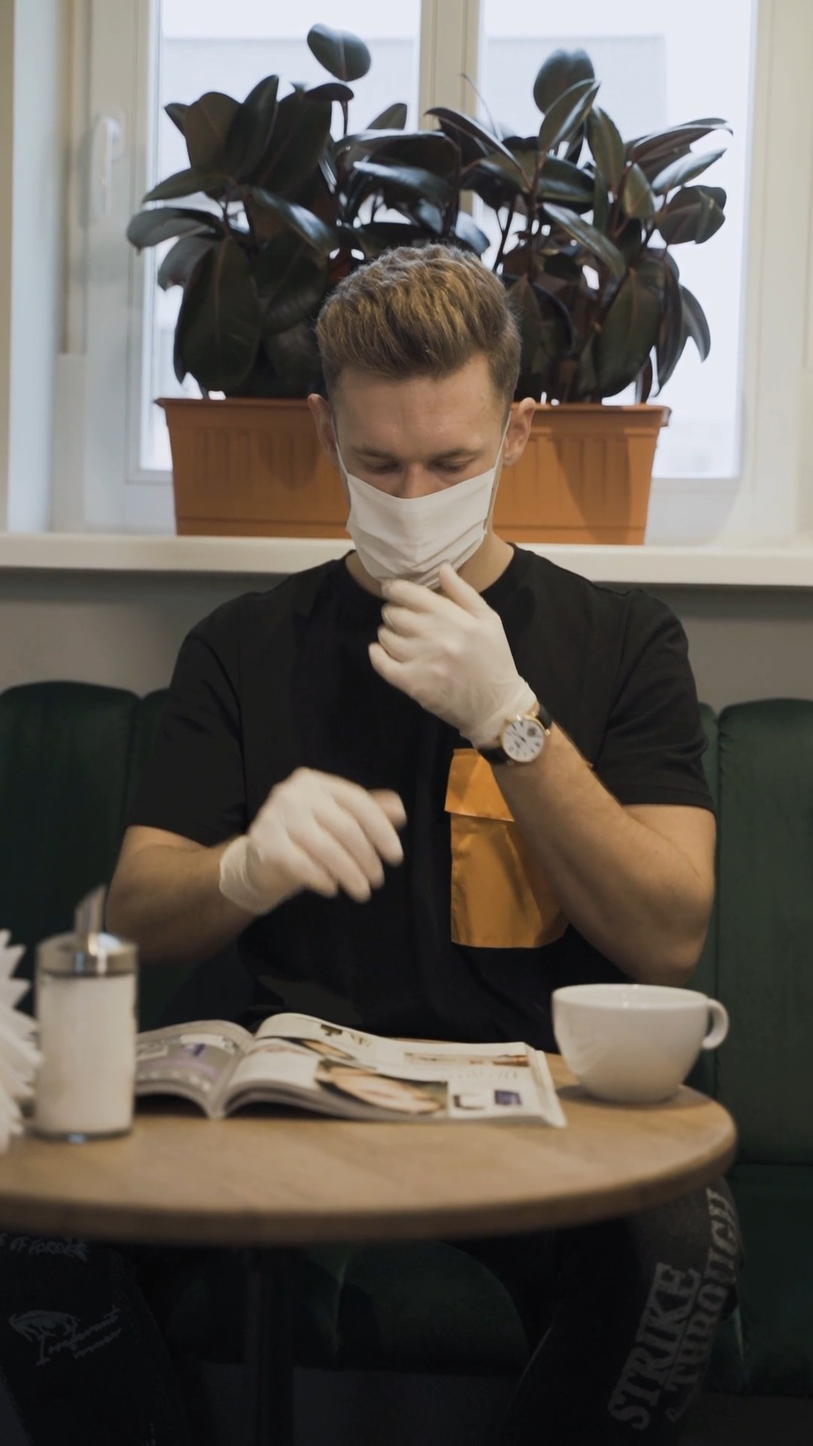gloves: (358, 541, 577, 751), (231, 736, 410, 929)
